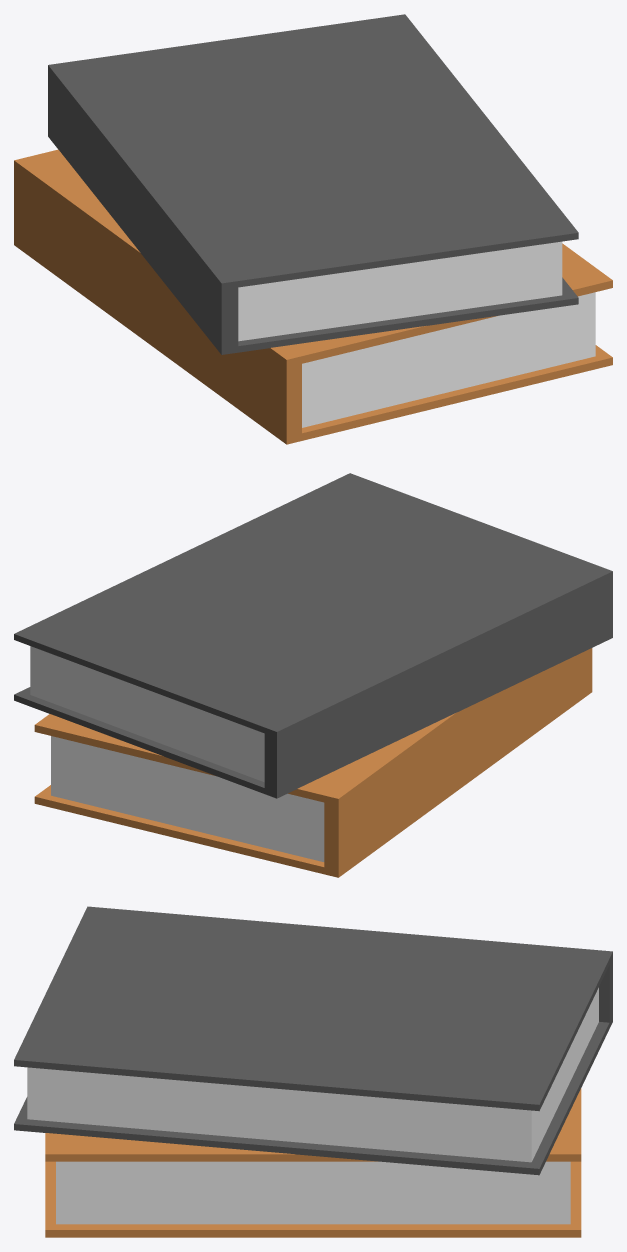
The model's file is kitaplar.fbx.
3 views of the same model, one above another, from view 1: azimuth 30°, elevation 25°; view 2: azimuth 150°, elevation 25°; view 3: azimuth 270°, elevation 25° (orthographic). The views are drawn at different scales.
Parts seen in each view (by area): view 1: Cube.003; view 2: Cube.003; view 3: Cube.003.
Part boxes in pixels (x1,y1,x2,y2): Cube.003: (14,14,612,444); Cube.003: (14,473,612,877); Cube.003: (14,906,612,1237).
Bounding box in the file's own units: 175 × 63.2 × 223.
